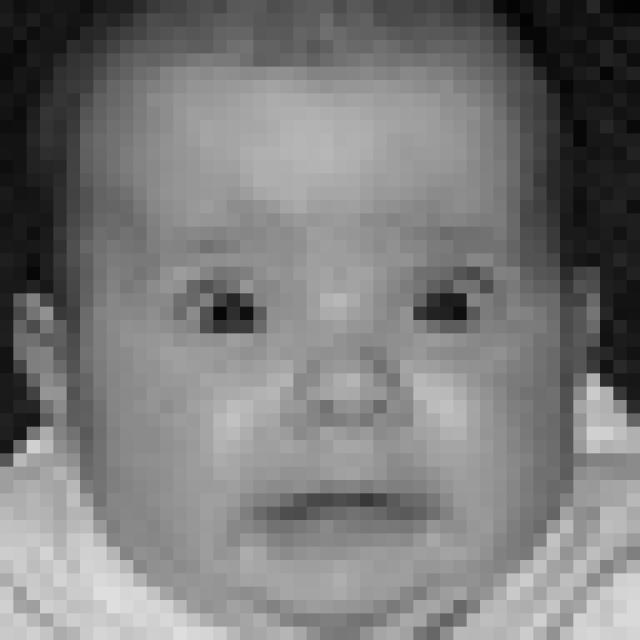fear: (123, 211, 528, 630)
